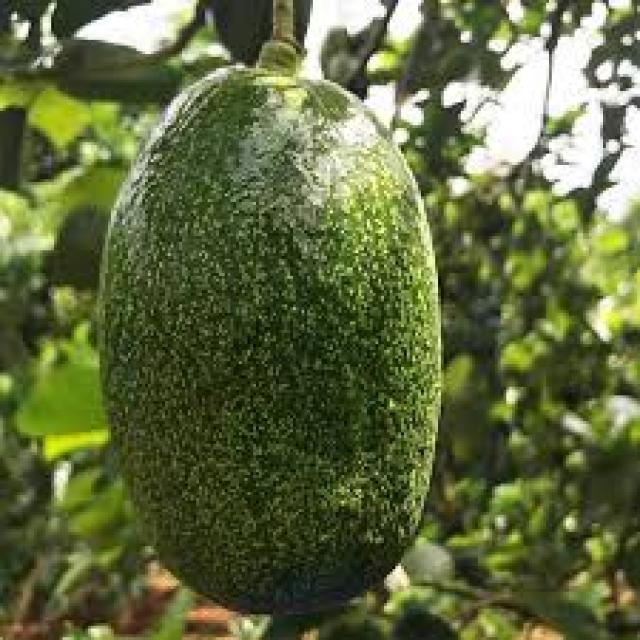Bo: (96, 48, 443, 617)
